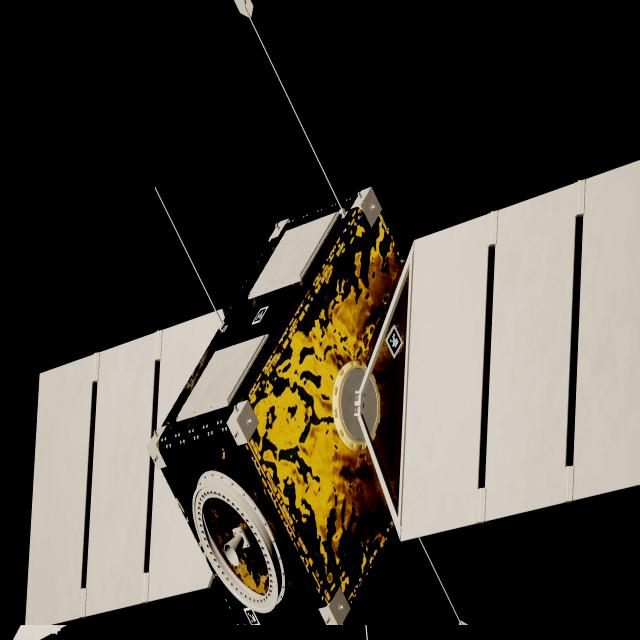satellite: (25, 161, 640, 628)
